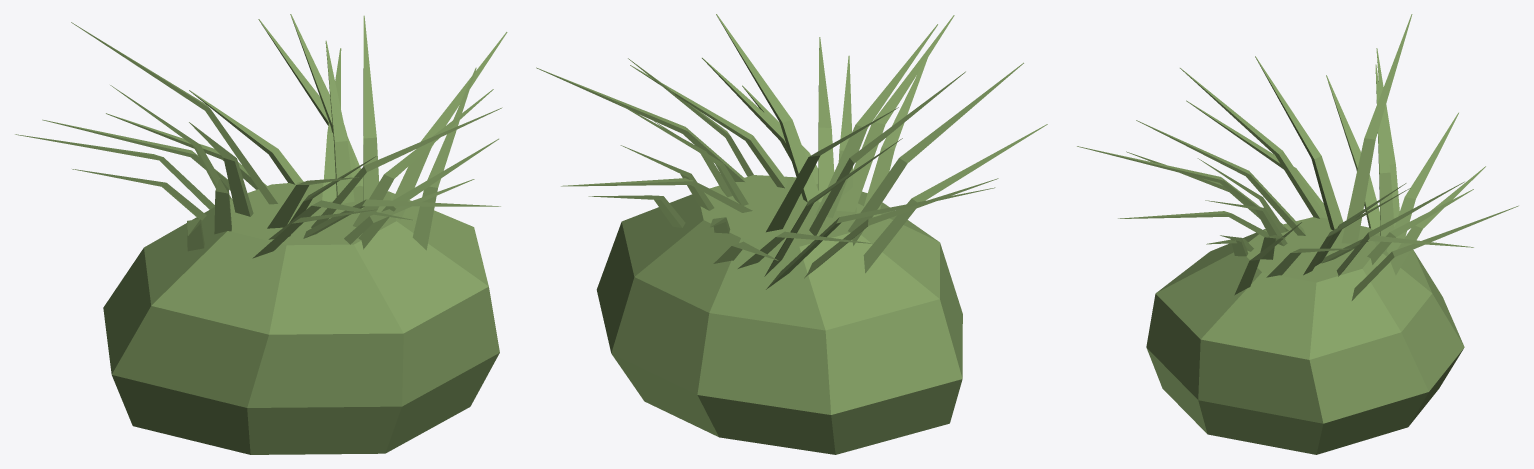
The model's file is tussock.glb.
3 views of the same model, side by side, from view 1: azimuth 30°, elevation 25°; view 2: azimuth 150°, elevation 25°; view 3: azimuth 270°, elevation 25° (orthographic). The views are drawn at different scales.
Visible parts, largest first — view 1: tussock; view 2: tussock; view 3: tussock.
Boxes of the visible parts, left/top/right/bottom form: tussock: left=15, top=14, right=507, bottom=454; tussock: left=536, top=14, right=1047, bottom=454; tussock: left=1077, top=14, right=1518, bottom=454.
Bounding box in the file's own units: 0.6706 × 0.4858 × 0.6369.
